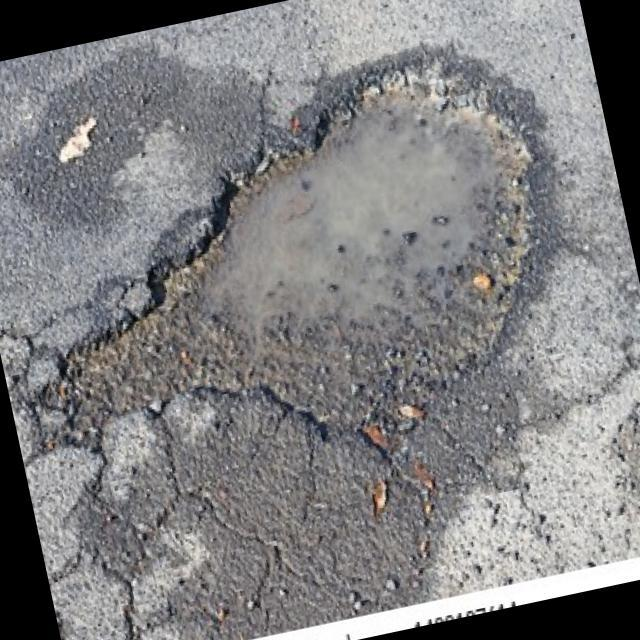Pothole: (7, 40, 594, 512)
